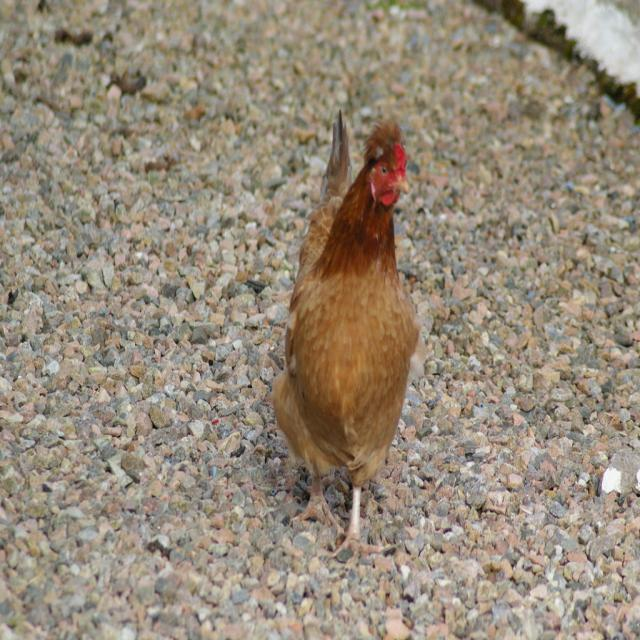Chicken: (268, 114, 417, 566)
